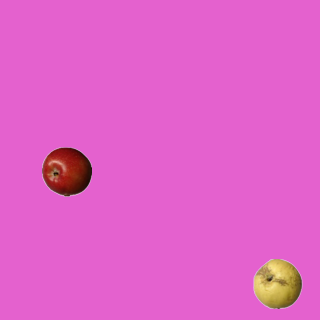Apple Braeburn: (41, 146, 91, 196)
Apple Golden 1: (252, 258, 302, 308)
